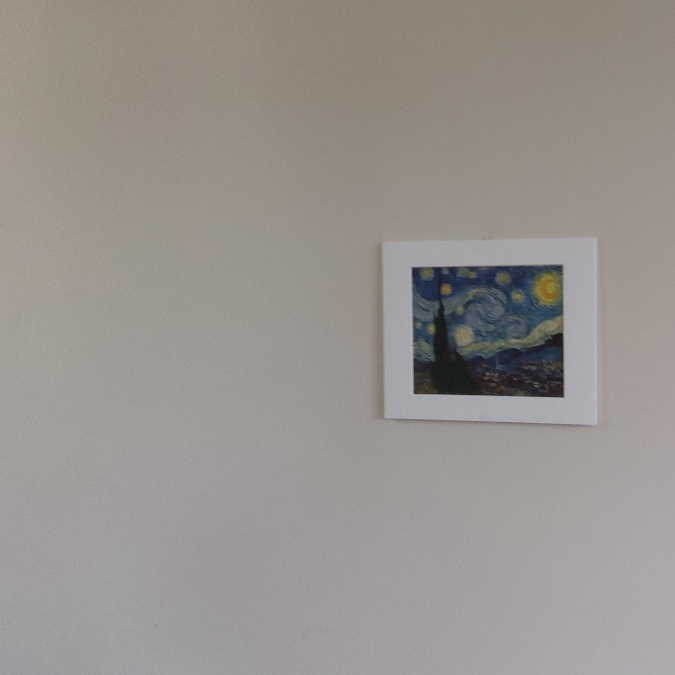painting: (406, 259, 573, 407)
